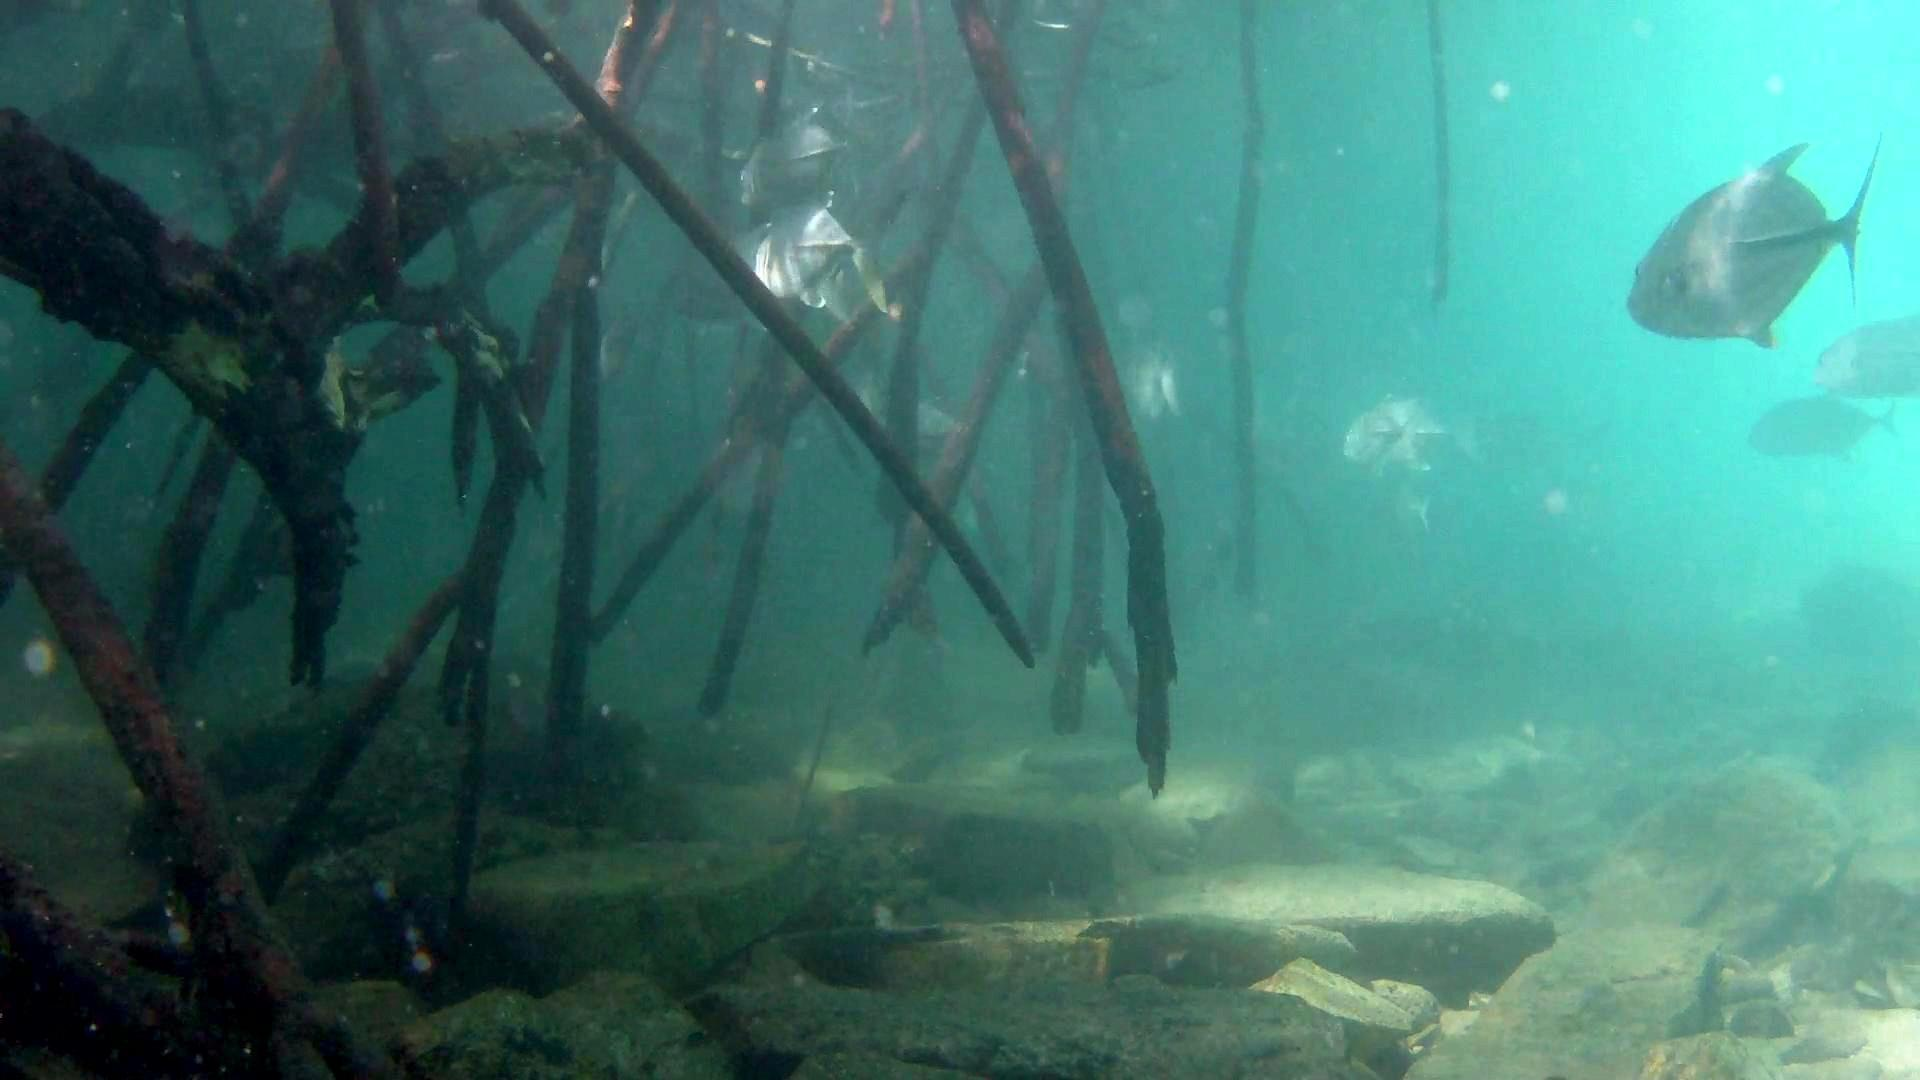caranx: (1618, 140, 1878, 357)
